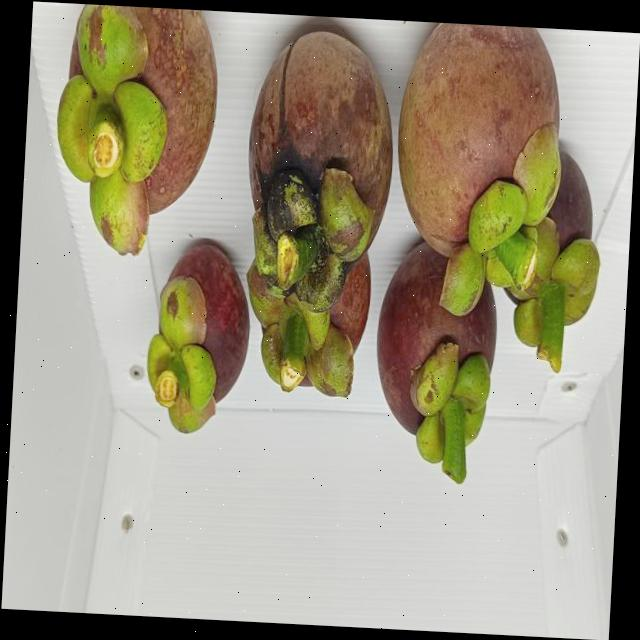mangosteen: (176, 33, 454, 323), (386, 19, 596, 300), (35, 8, 243, 254), (471, 147, 633, 389), (347, 264, 520, 462), (228, 255, 416, 437), (118, 236, 258, 444)
